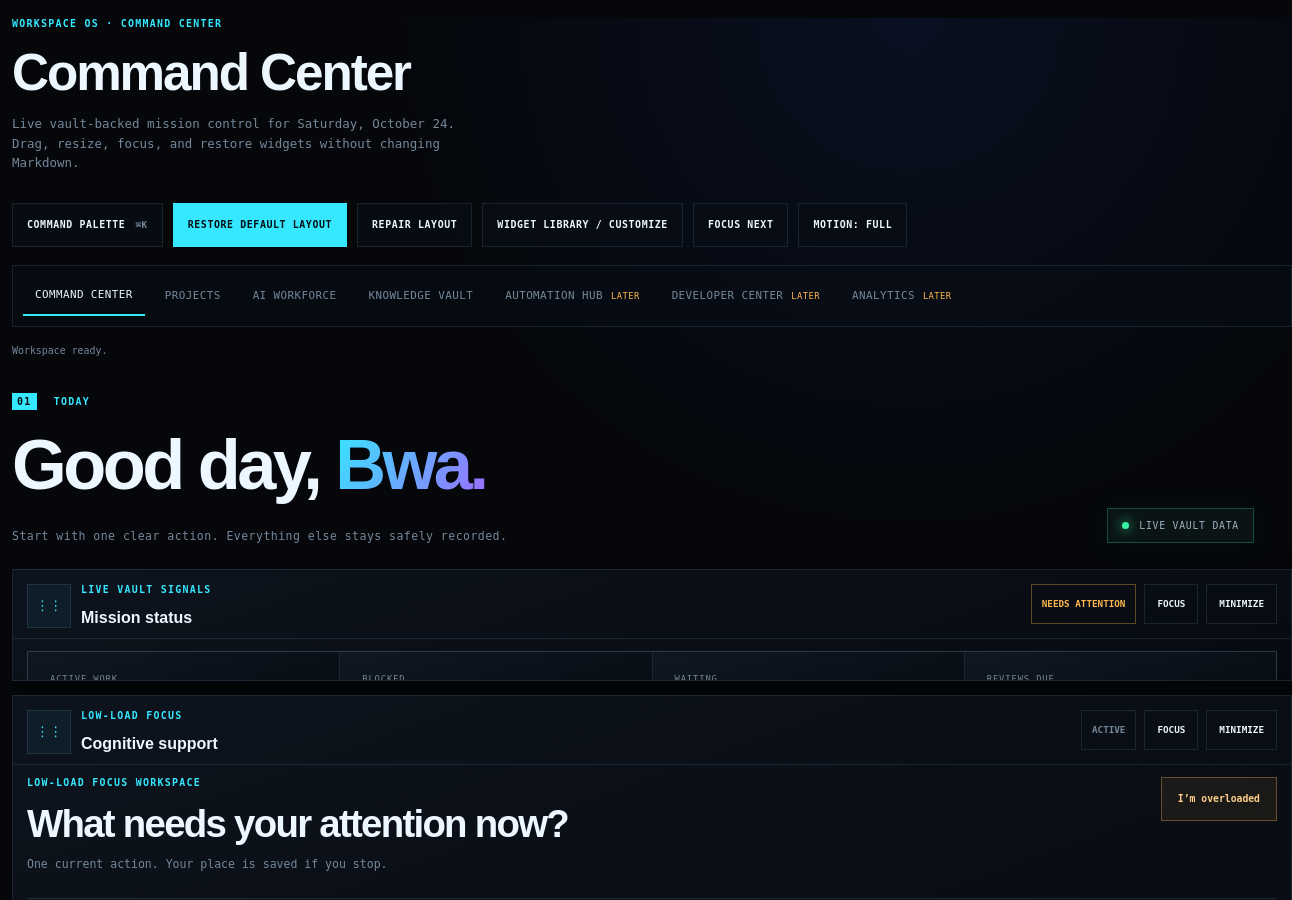
Test case: Workspace OS Command Center › reports a storage failure instead of claiming the layout was repaired or restored
The width and height of the screenshot is (1292, 900).
What coordinates should you click on to do the following:
click the button "Repair layout"
I would click on:
 (415, 225)
Its box is x1=357 y1=203 x2=472 y2=247.
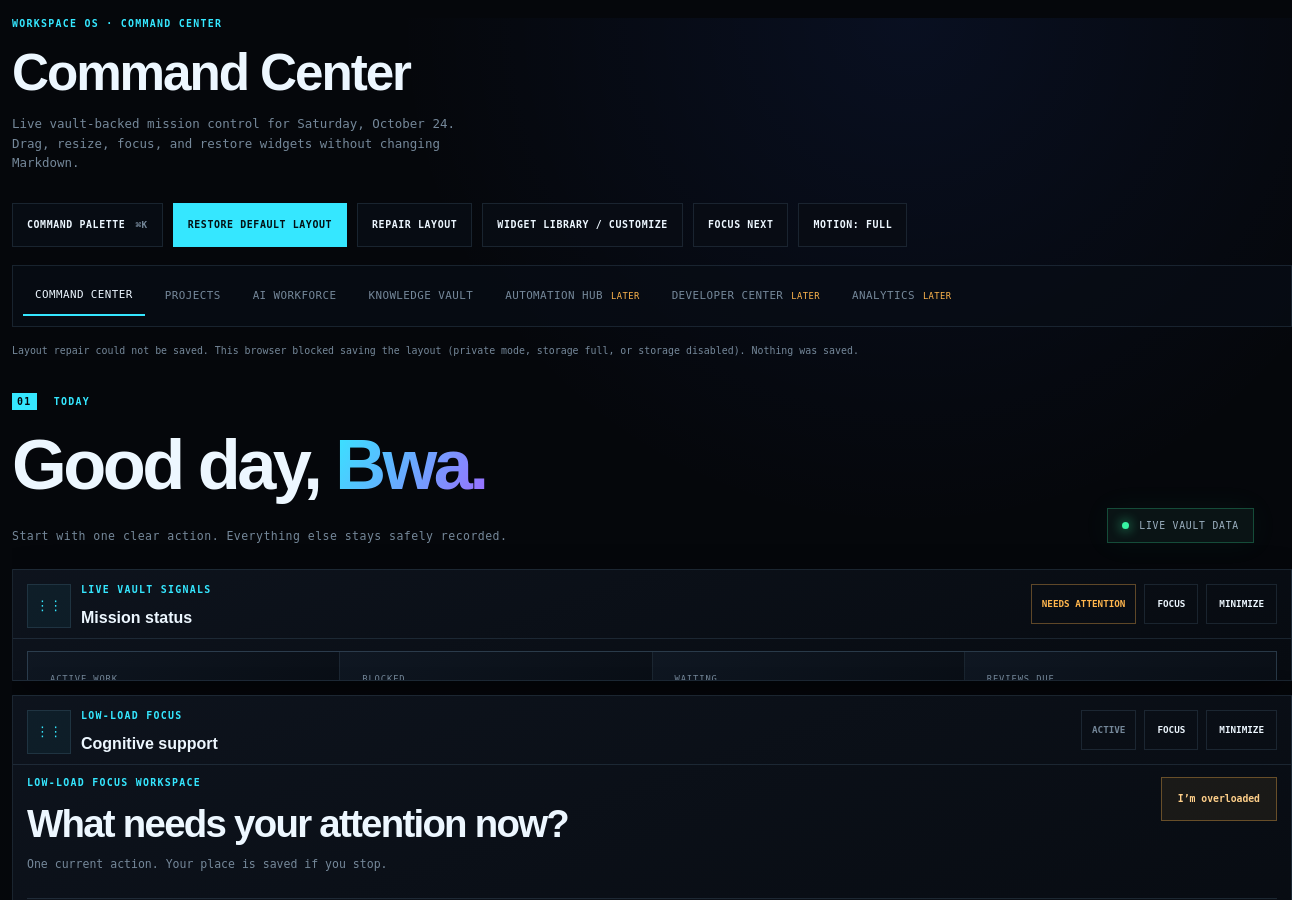
Expected: the text "Layout repair could not be saved" is shown, x1=12 y1=345 x2=859 y2=356
What coordinates should you click on to do the following:
click the button "Restore default layout"
I would click on:
 (260, 225)
Its box is x1=173 y1=203 x2=347 y2=247.
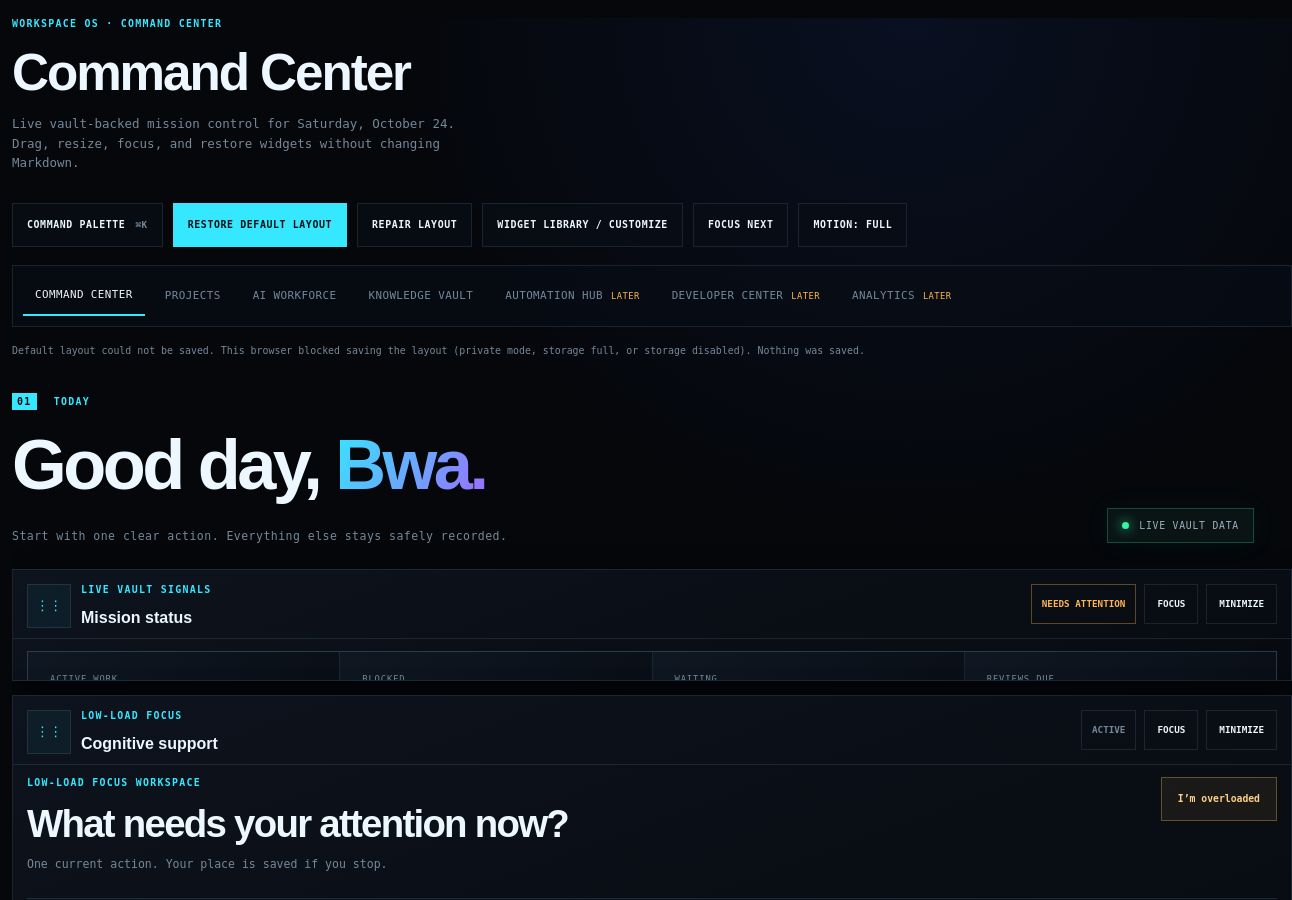
Expected: the text "Default layout could not be saved" is shown, x1=12 y1=345 x2=865 y2=356
